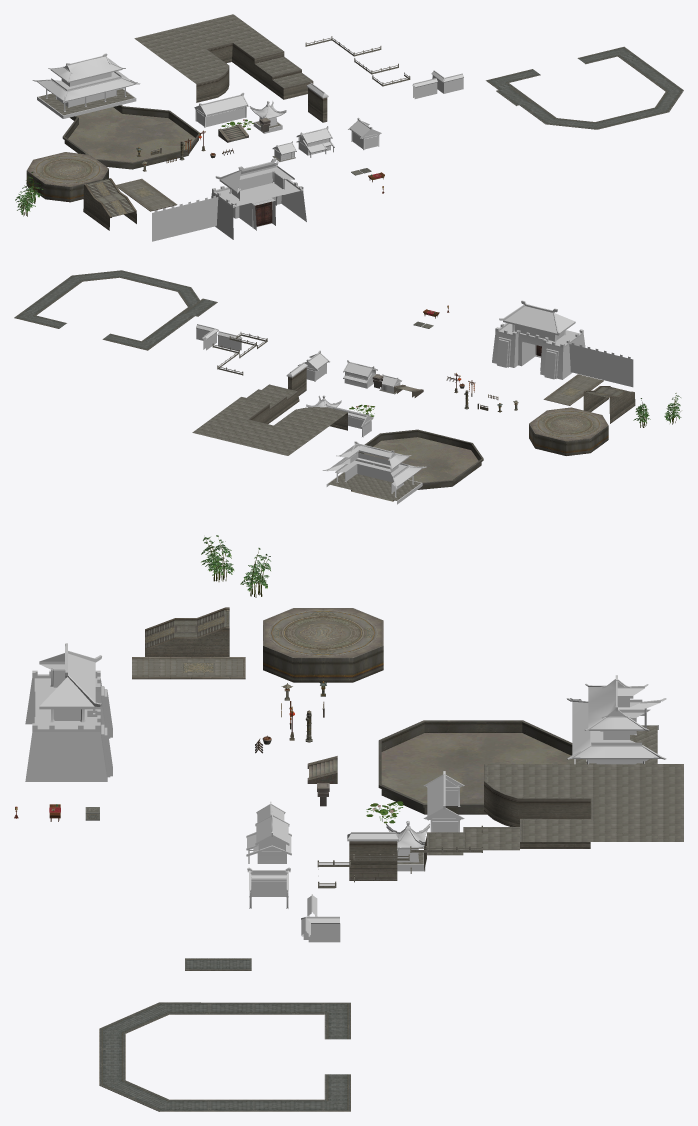
Rendered from s7_new_3d_zhucheng_wujian001.FBX.
3 renders of one model, top to bottom at view 1: azimuth 30°, elevation 25°; view 2: azimuth 150°, elevation 25°; view 3: azimuth 270°, elevation 25°, orthographic. The views are drawn at different scales.
Visible parts, largest first — view 1: s7_new_3d_zhucheng_chitang001, s7_jianzhu_pingmiani001, s7_new_3d_zhucheng_gongdian001 (×2), s7_new_3d_zhucheng_chengmen001, s7_new_3d_zhucheng_lu001, s7_new_3d_zhucheng_taizi001, s7_jianzhu_pingtai001, s7_new_3d_zhucheng_chengqiang001, s7_new_3d_zhucheng_gongdian002, s7_new_3d_zhucheng_louti002, s7_new_3d_zhucheng_dimian001, s7_new_3d_zhucheng_minjun001 (+10 smaller); view 2: s7_jianzhu_pingmiani001, s7_new_3d_zhucheng_chengmen001, s7_new_3d_zhucheng_chitang001, s7_new_3d_zhucheng_gongdian001 (×2), s7_new_3d_zhucheng_lu001, s7_new_3d_zhucheng_taizi001, s7_new_3d_zhucheng_chengqiang001, s7_new_3d_zhucheng_dimian001, s7_new_3d_zhucheng_louti001, s7_jianzhu_pingtai001, s7_new_3d_zhucheng_minjun001, s7_new_3d_zhucheng_gongdianlangan001 (+4 smaller); view 3: s7_jianzhu_pingmiani001, s7_new_3d_zhucheng_chitang001, s7_new_3d_zhucheng_chengmen001, s7_new_3d_zhucheng_lu001, s7_new_3d_zhucheng_taizi001, s7_new_3d_zhucheng_gongdian001, s7_jianzhu_pingtai001, s7_new_3d_zhucheng_dimian001, s7_new_3d_zhucheng_gongdian005, s7_new_3d_zhucheng_louti002, s7_new_3d_zhucheng_minjun001, s7_new_3d_zhucheng_gongdian002 (+7 smaller).
Boxes of the visible parts, left/top/right/bottom form: s7_new_3d_zhucheng_chitang001: left=62, top=105, right=200, bottom=169; s7_jianzhu_pingmiani001: left=134, top=14, right=310, bottom=86; s7_new_3d_zhucheng_gongdian001 (×2): left=32, top=53, right=140, bottom=118; s7_new_3d_zhucheng_chengmen001: left=211, top=158, right=306, bottom=239; s7_new_3d_zhucheng_lu001: left=486, top=46, right=683, bottom=129; s7_new_3d_zhucheng_taizi001: left=26, top=152, right=108, bottom=202; s7_jianzhu_pingtai001: left=196, top=43, right=313, bottom=102; s7_new_3d_zhucheng_chengqiang001: left=152, top=195, right=218, bottom=241; s7_new_3d_zhucheng_gongdian002: left=194, top=92, right=249, bottom=127; s7_new_3d_zhucheng_louti002: left=84, top=178, right=136, bottom=217; s7_new_3d_zhucheng_dimian001: left=116, top=178, right=177, bottom=211; s7_new_3d_zhucheng_minjun001: left=296, top=126, right=334, bottom=157; s7_jianzhu_pingmiani001: left=192, top=385, right=346, bottom=455; s7_new_3d_zhucheng_chengmen001: left=492, top=300, right=585, bottom=379; s7_new_3d_zhucheng_chitang001: left=351, top=429, right=483, bottom=501; s7_new_3d_zhucheng_gongdian001 (×2): left=322, top=441, right=426, bottom=504; s7_new_3d_zhucheng_lu001: left=14, top=270, right=199, bottom=350; s7_new_3d_zhucheng_taizi001: left=529, top=407, right=608, bottom=455; s7_new_3d_zhucheng_chengqiang001: left=569, top=343, right=633, bottom=387; s7_new_3d_zhucheng_dimian001: left=543, top=374, right=603, bottom=405; s7_new_3d_zhucheng_louti001: left=583, top=391, right=635, bottom=423; s7_jianzhu_pingtai001: left=249, top=391, right=347, bottom=430; s7_new_3d_zhucheng_minjun001: left=343, top=360, right=379, bottom=388; s7_new_3d_zhucheng_gongdianlangan001: left=212, top=332, right=267, bottom=375; s7_jianzhu_pingmiani001: left=429, top=764, right=683, bottom=854; s7_new_3d_zhucheng_chitang001: left=378, top=720, right=574, bottom=814; s7_new_3d_zhucheng_chengmen001: left=25, top=643, right=112, bottom=781; s7_new_3d_zhucheng_lu001: left=99, top=1002, right=350, bottom=1111; s7_new_3d_zhucheng_taizi001: left=263, top=608, right=383, bottom=682; s7_new_3d_zhucheng_gongdian001: left=566, top=675, right=666, bottom=764; s7_jianzhu_pingtai001: left=424, top=781, right=590, bottom=871; s7_new_3d_zhucheng_dimian001: left=132, top=657, right=245, bottom=679; s7_new_3d_zhucheng_gongdian005: left=349, top=841, right=397, bottom=880; s7_new_3d_zhucheng_louti002: left=145, top=607, right=229, bottom=649; s7_new_3d_zhucheng_minjun001: left=246, top=811, right=291, bottom=863; s7_new_3d_zhucheng_gongdian002: left=423, top=771, right=464, bottom=832.
Bounding box in the file's own units: 271 × 28.57 × 150.
